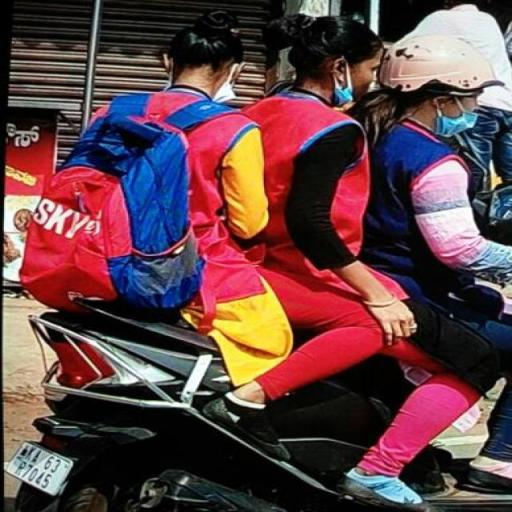tripple riding: (16, 2, 512, 350)
